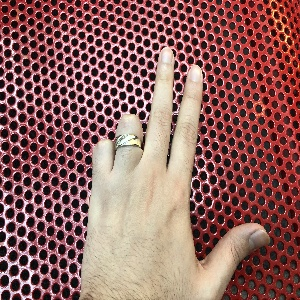hand: (81, 47, 271, 299)
